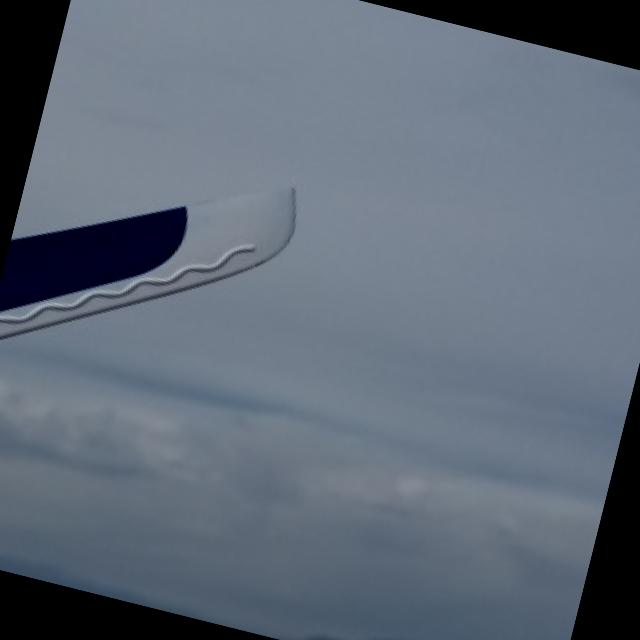healthy: (0, 188, 294, 336)
